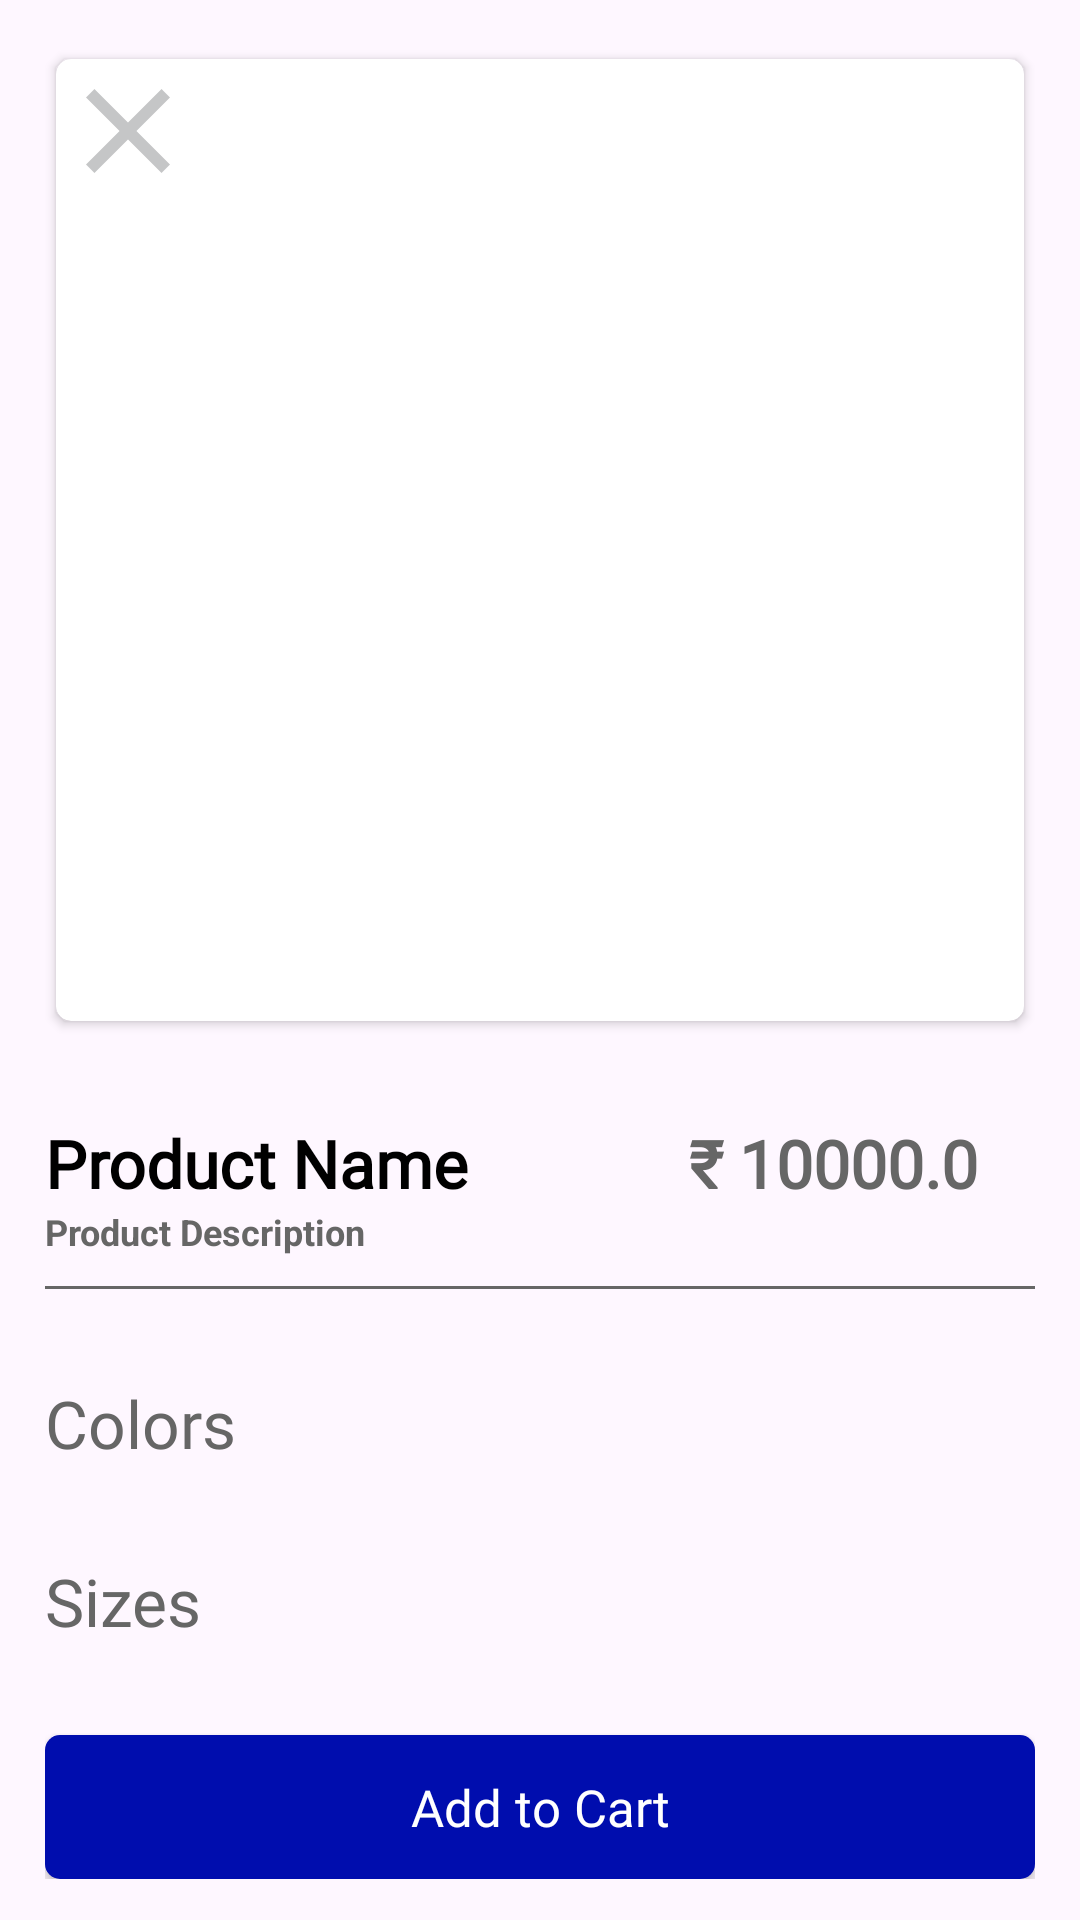

Named icons in this screenshot (1080 × 1920) and their bounding boxes, (x1, y1, x2, y2):
close: (86, 89, 170, 173)
